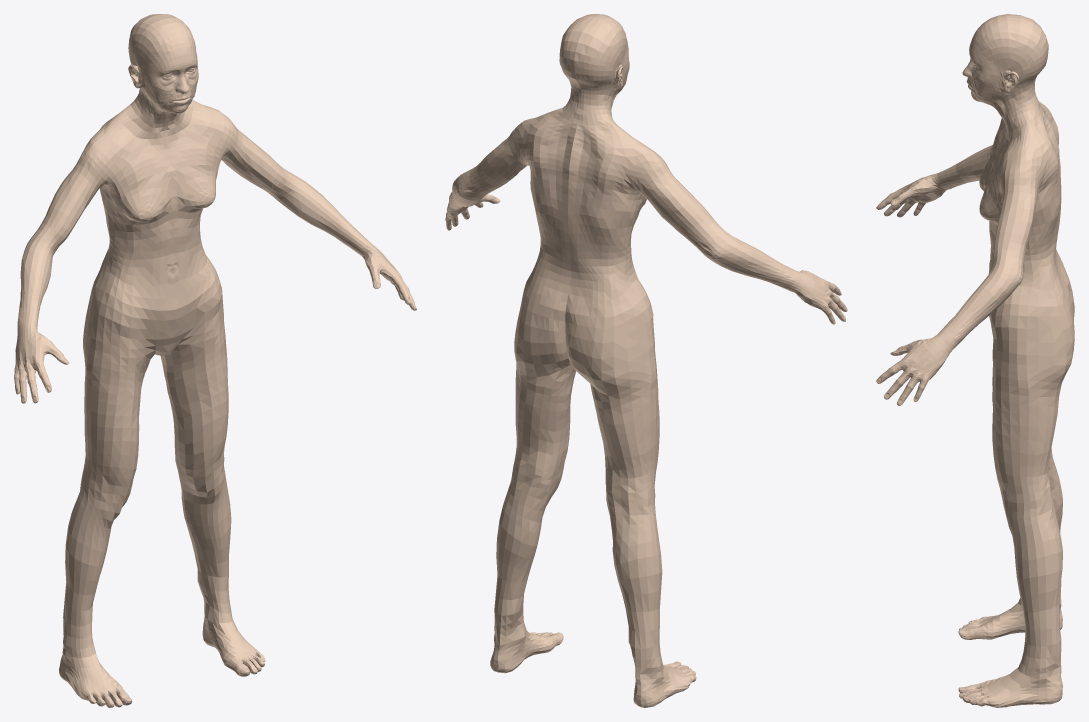
The model's file is female-elder-lean-high.glb.
3 renders of one model, left to right at view 1: azimuth 30°, elevation 25°; view 2: azimuth 150°, elevation 25°; view 3: azimuth 270°, elevation 25°, orthographic.
Visible parts, largest first — view 1: world; view 2: world; view 3: world.
Boxes of the visible parts, x1,y1,x2,y2 form: world: (14,14,416,707); world: (445,14,847,707); world: (876,14,1074,707).
Size of the model in its own units: 1.13 by 1.8 by 0.4982.
